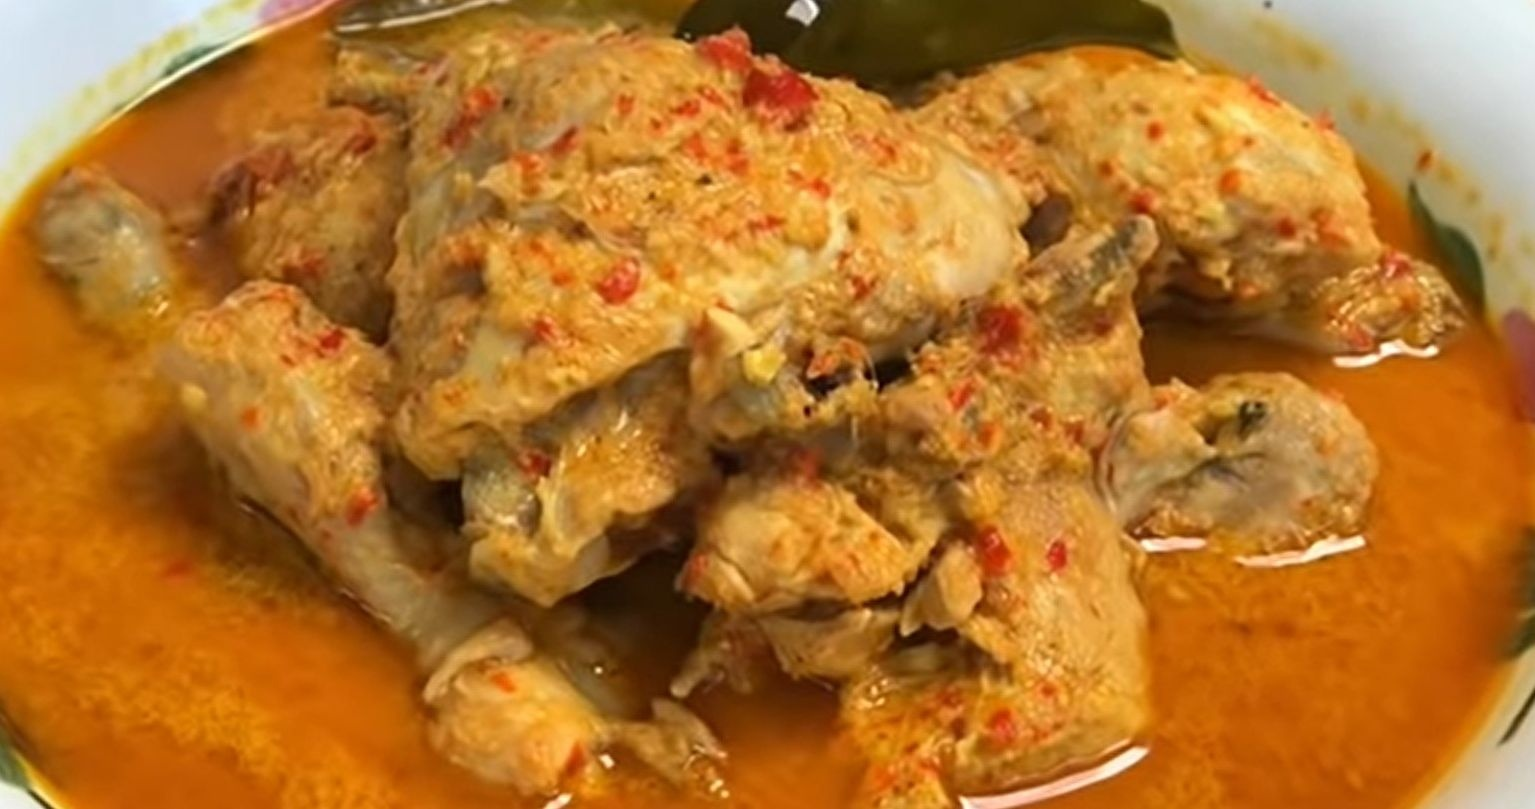gulai_ayam: (6, 14, 1501, 801)
